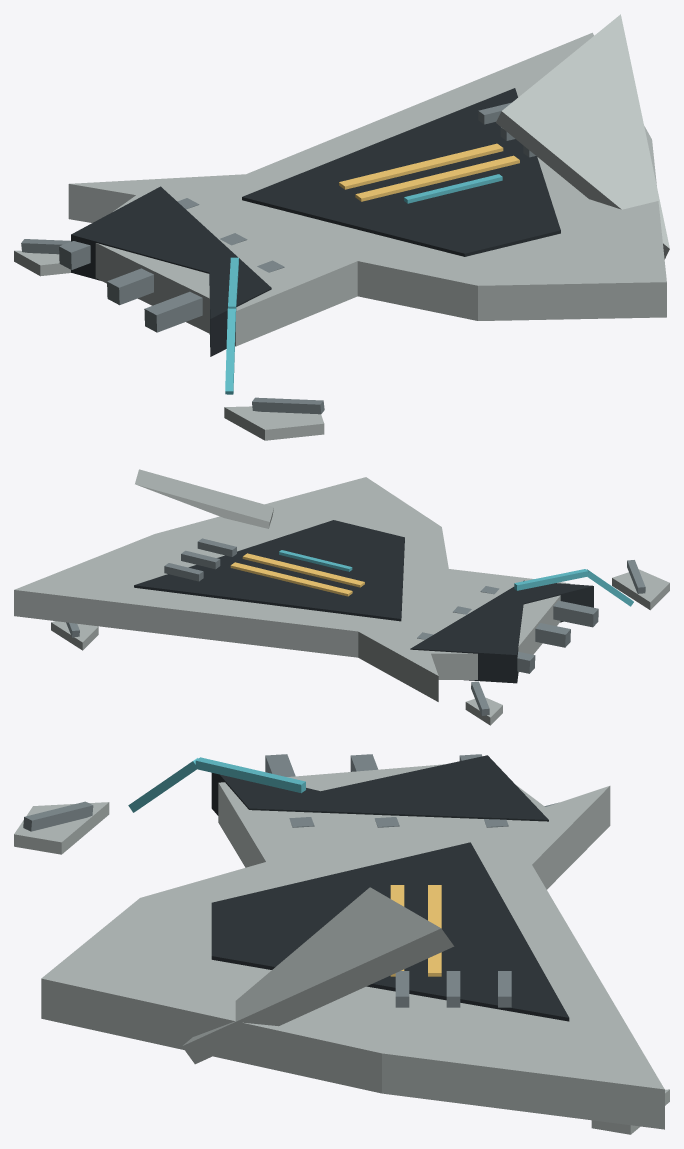
File: debris-wing.glb
The picture shows the model from 3 angles, top to bottom: view 1: azimuth 30°, elevation 25°; view 2: azimuth 150°, elevation 25°; view 3: azimuth 270°, elevation 25°; orthographic projection. The views are drawn at different scales.
Visible parts, largest first — view 1: debris-wing / Survey ship ivory armor, debris-wing / Scorched graphite interiors, debris-wing / Exposed survey ship frame, debris-wing / Survey ship gold identification, debris-wing / Survey ship cyan service lines; view 2: debris-wing / Survey ship ivory armor, debris-wing / Scorched graphite interiors, debris-wing / Exposed survey ship frame, debris-wing / Survey ship gold identification, debris-wing / Survey ship cyan service lines; view 3: debris-wing / Survey ship ivory armor, debris-wing / Scorched graphite interiors, debris-wing / Exposed survey ship frame, debris-wing / Survey ship cyan service lines, debris-wing / Survey ship gold identification.
Boxes of the visible parts, x1=… form: debris-wing / Survey ship ivory armor: x1=14, y1=14, x2=669, y2=440; debris-wing / Scorched graphite interiors: x1=71, y1=88, x2=560, y2=356; debris-wing / Exposed survey ship frame: x1=21, y1=102, x2=535, y2=414; debris-wing / Survey ship gold identification: x1=339, y1=143, x2=519, y2=201; debris-wing / Survey ship cyan service lines: x1=225, y1=174, x2=502, y2=394; debris-wing / Survey ship ivory armor: x1=14, y1=469, x2=669, y2=725; debris-wing / Scorched graphite interiors: x1=134, y1=520, x2=593, y2=683; debris-wing / Exposed survey ship frame: x1=66, y1=538, x2=645, y2=715; debris-wing / Survey ship gold identification: x1=230, y1=553, x2=364, y2=596; debris-wing / Survey ship cyan service lines: x1=279, y1=550, x2=633, y2=606; debris-wing / Survey ship ivory armor: x1=14, y1=764, x2=669, y2=1134; debris-wing / Scorched graphite interiors: x1=211, y1=755, x2=569, y2=1021; debris-wing / Exposed survey ship frame: x1=23, y1=754, x2=558, y2=1007; debris-wing / Survey ship cyan service lines: x1=128, y1=757, x2=305, y2=812; debris-wing / Survey ship gold identification: x1=390, y1=885, x2=441, y2=976.
Bounding box in the file's own units: 2.37 × 0.6057 × 1.92.
